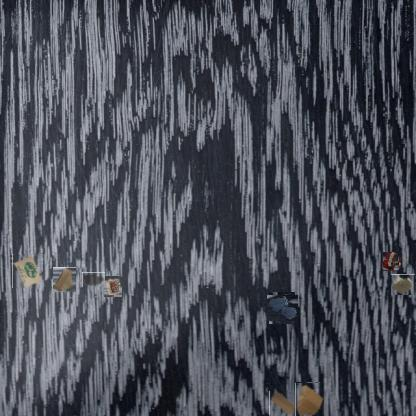dirty: (12, 254, 43, 288), (295, 382, 324, 416), (269, 391, 296, 415), (52, 268, 77, 292), (392, 274, 416, 295), (103, 276, 123, 296), (382, 252, 400, 271)
liquid: (268, 294, 297, 322), (82, 272, 105, 287)
